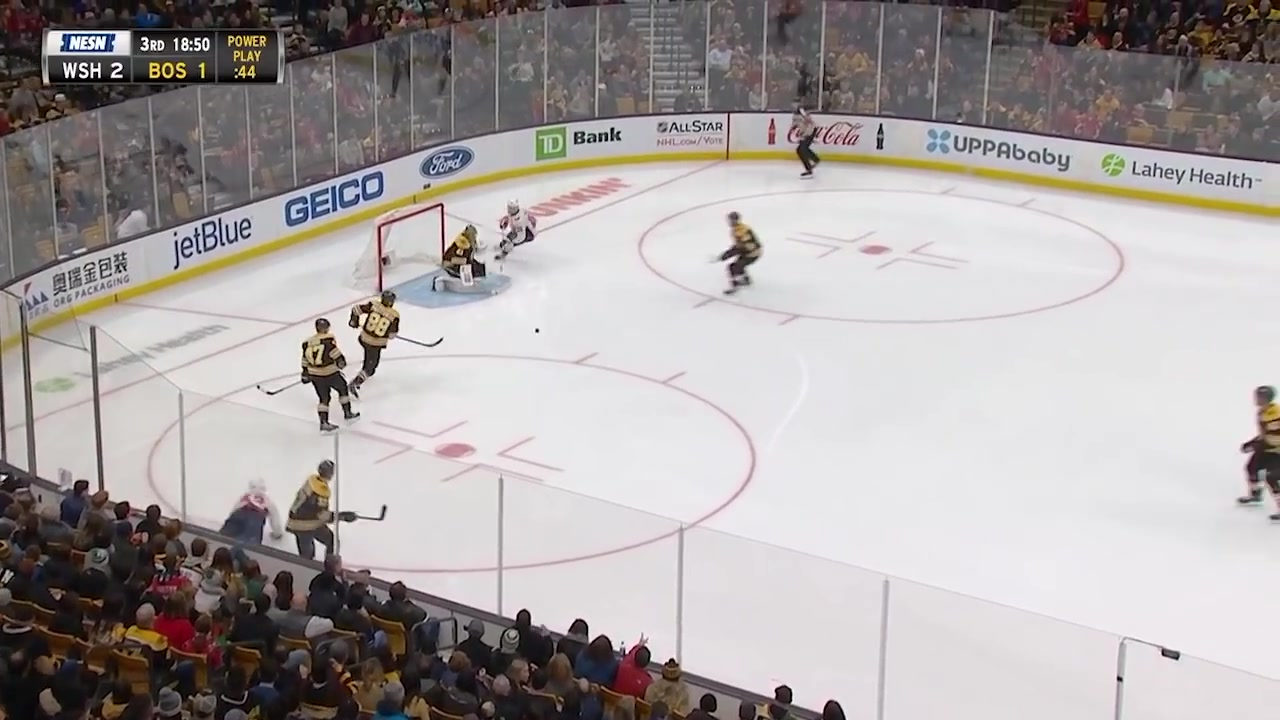geico: (280, 169, 394, 225)
